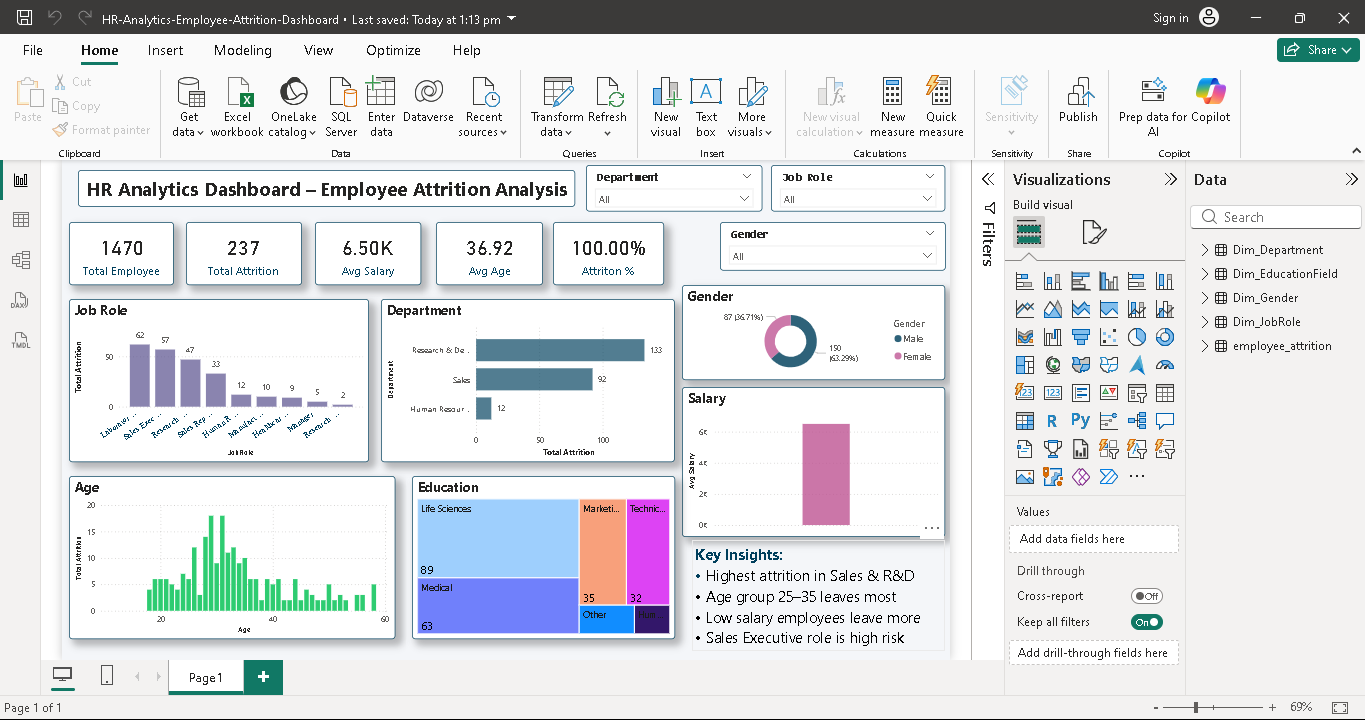

Layout of this report page (visuals, bound fields, positions):
{"tool":"powerbi","page":{"name":"Page 1","canvas":[1280,720],"ordinal":0},"visuals":[{"type":"card","fields":{"Values":["Dim_Department.Avg Age"]},"box":[538.6,89.5,154.4,91.2],"z":0},{"type":"card","fields":{"Values":["Dim_Department.Total Attrition"]},"box":[178.9,89.5,166.7,91.2],"z":1000},{"type":"card","fields":{"Values":["Dim_Department.Avg Salary"]},"box":[364.9,89.5,152.6,91.2],"z":2000},{"type":"card","fields":{"Values":["Dim_Department.Total Employee"]},"box":[10.1,89.3,151.2,90.7],"z":3000},{"type":"card","fields":{"Values":["Dim_Department.Attriton %"]},"box":[707,89.5,159.6,91.2],"z":4000},{"type":"clusteredBarChart","title":"Department","fields":{"Category":["Dim_Department.Department"],"Y":["Dim_Department.Total Attrition"]},"box":[459.6,200,422.8,235.1],"z":5000},{"type":"columnChart","title":"Job Role","fields":{"Category":["Dim_JobRole.JobRole"],"Y":["Dim_Department.Total Attrition"]},"box":[10.5,200,431.6,235.1],"z":6000},{"type":"donutChart","title":"Gender","fields":{"Category":["Dim_Gender.Gender"],"Y":["Dim_Department.Total Attrition"]},"box":[893,180.7,378.9,136.8],"z":7000},{"type":"columnChart","title":"Age","fields":{"Category":["employee_attrition.Age"],"Y":["Dim_Department.Total Attrition"]},"box":[10.5,454.4,470.2,235.1],"z":8000},{"type":"columnChart","title":"Salary","fields":{"Y":["Dim_Department.Avg Salary"]},"box":[893,326.3,378.9,215.8],"z":9000},{"type":"treemap","title":"Education","fields":{"Values":["Dim_Department.Total Attrition"],"Group":["Dim_EducationField.EducationField"]},"box":[503.5,454.4,378.9,235.1],"z":10000},{"type":"textbox","box":[22.8,14,715.8,52.6],"z":11000},{"type":"textbox","box":[907,547.4,364.9,159.6],"z":12000},{"type":"slicer","fields":{"Values":["Dim_Department.Department"]},"box":[754.4,7,254.4,66.7],"z":13000},{"type":"slicer","fields":{"Values":["Dim_JobRole.JobRole"]},"box":[1021.1,7,250.9,66.7],"z":14000},{"type":"slicer","fields":{"Values":["Dim_Gender.Gender"]},"box":[947.4,89.5,324.6,70.2],"z":15000}]}

Visuals, with their boxes on the page's 1280x720 design canvas (x1, y1, x2, y2). These are canvas units, not pixel positions in the 1365x720 screenshot, which may show the page scaled, cropped or inside an application window:
card - Dim_Department.Avg Age: (x1=539, y1=90, x2=693, y2=181)
card - Dim_Department.Total Attrition: (x1=179, y1=90, x2=346, y2=181)
card - Dim_Department.Avg Salary: (x1=365, y1=90, x2=518, y2=181)
card - Dim_Department.Total Employee: (x1=10, y1=89, x2=161, y2=180)
card - Dim_Department.Attriton %: (x1=707, y1=90, x2=867, y2=181)
"Department" clusteredBarChart: (x1=460, y1=200, x2=882, y2=435)
"Job Role" columnChart: (x1=10, y1=200, x2=442, y2=435)
"Gender" donutChart: (x1=893, y1=181, x2=1272, y2=318)
"Age" columnChart: (x1=10, y1=454, x2=481, y2=690)
"Salary" columnChart: (x1=893, y1=326, x2=1272, y2=542)
"Education" treemap: (x1=504, y1=454, x2=882, y2=690)
textbox: (x1=23, y1=14, x2=739, y2=67)
textbox: (x1=907, y1=547, x2=1272, y2=707)
slicer - Dim_Department.Department: (x1=754, y1=7, x2=1009, y2=74)
slicer - Dim_JobRole.JobRole: (x1=1021, y1=7, x2=1272, y2=74)
slicer - Dim_Gender.Gender: (x1=947, y1=90, x2=1272, y2=160)
